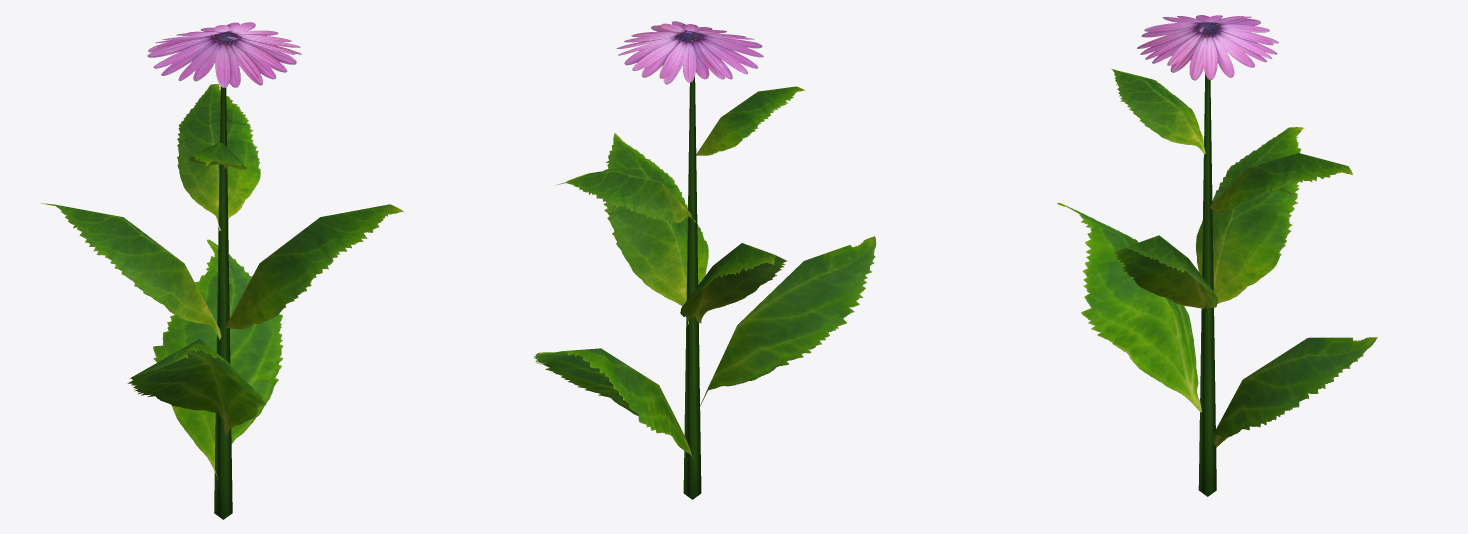
File: flower plant2.FBX
3 renders of one model, left to right at view 1: azimuth 30°, elevation 25°; view 2: azimuth 150°, elevation 25°; view 3: azimuth 270°, elevation 25°, orthographic. The views are drawn at different scales.
Parts seen in each view (by area): view 1: Cylinder001; view 2: Cylinder001; view 3: Cylinder001.
Boxes of the visible parts, x1,y1,x2,y2 form: Cylinder001: (41,22,403,519); Cylinder001: (534,21,876,499); Cylinder001: (1057,15,1377,496).
Bounding box in the file's own units: 3.31 × 4.12 × 3.81.
